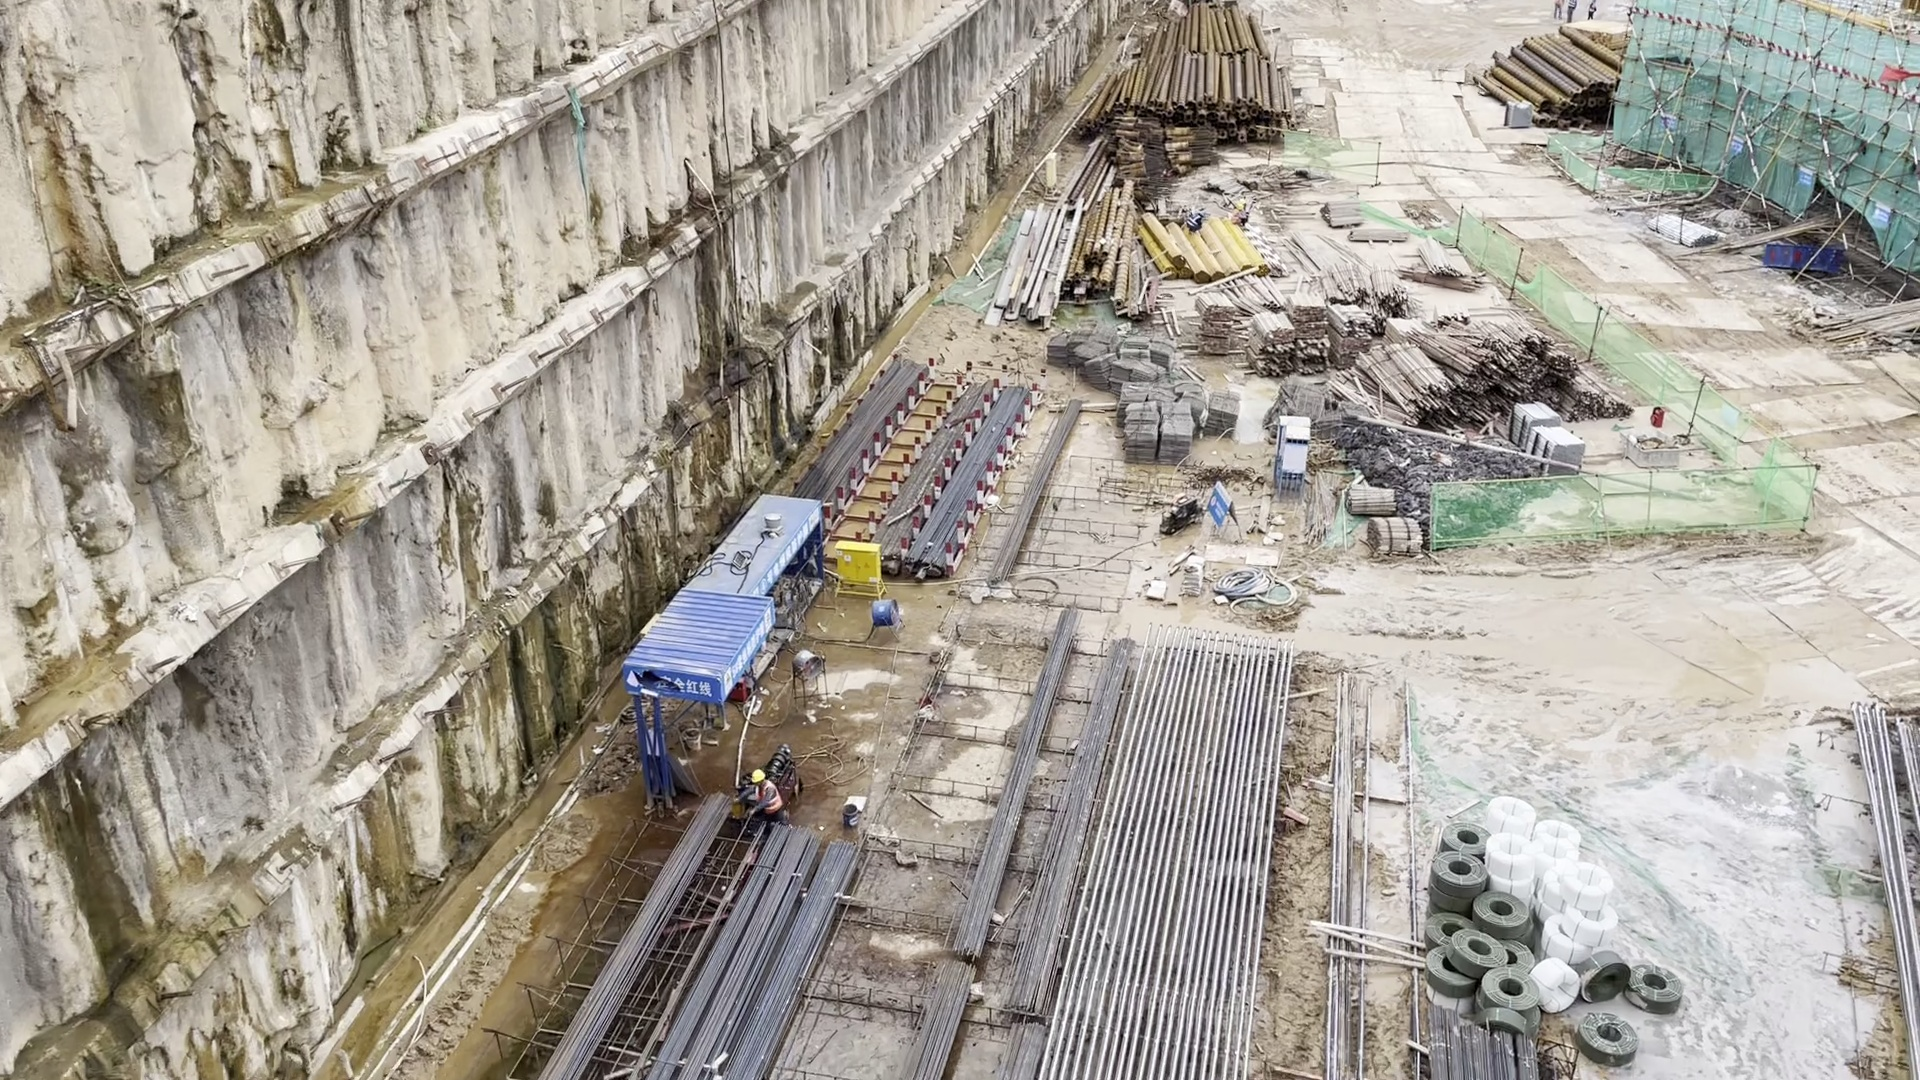brick: (1521, 425, 1578, 473), (1503, 400, 1556, 443)
ebox: (829, 538, 883, 598)
helmet: (750, 769, 767, 784)
hopper: (1759, 241, 1839, 276)
person: (747, 772, 784, 826)
rebar: (958, 622, 1287, 1080), (519, 819, 864, 1080), (795, 368, 1070, 586), (1847, 700, 1920, 1056), (1419, 1012, 1543, 1080)
slogan: (630, 662, 722, 700)
vest: (756, 784, 780, 812)
